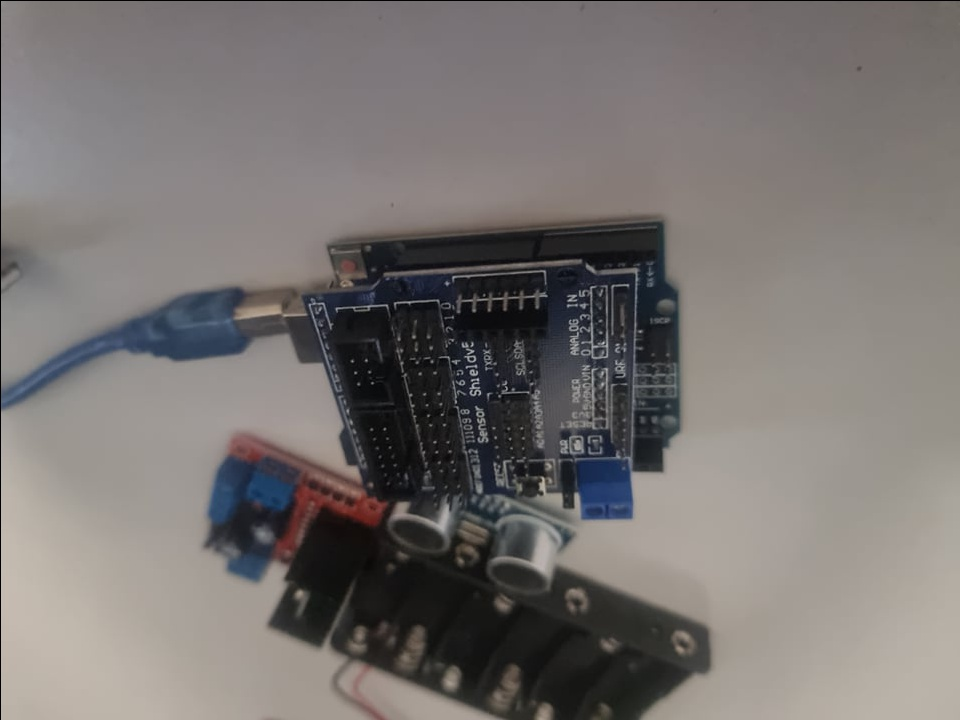5V EXPANSION: (293, 275, 639, 521)
BATTERY BOX: (356, 542, 720, 716)
MOTOR: (194, 434, 351, 656)
SENSOR: (384, 481, 571, 591)
